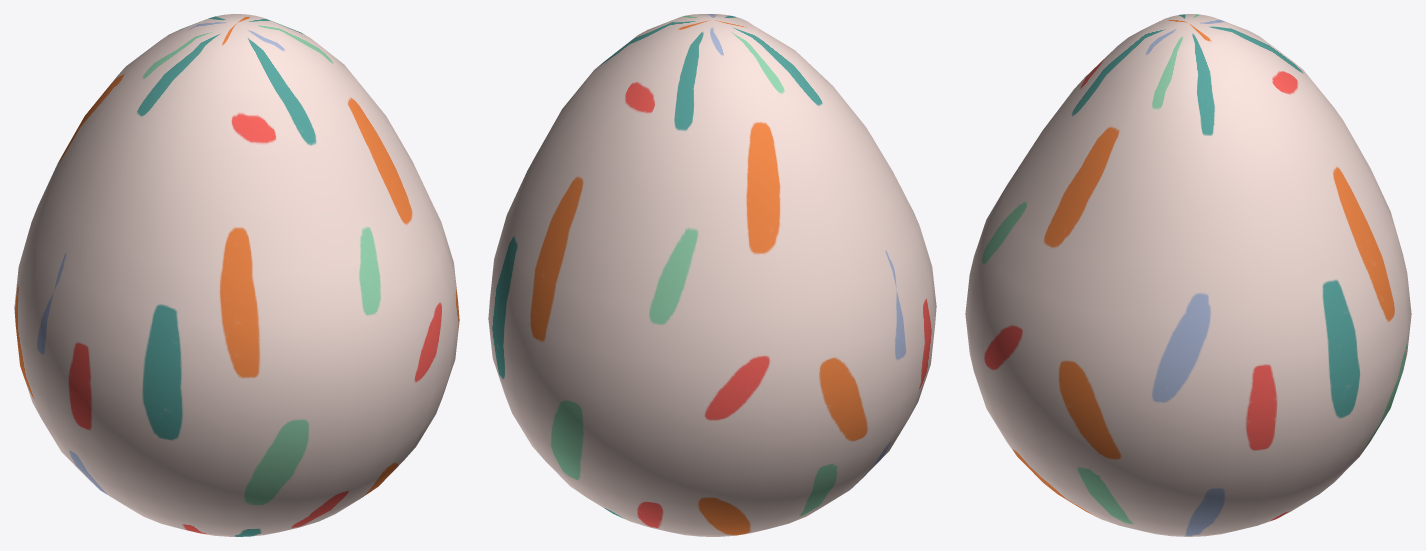
Rendered from line_egg.glb.
3 views of the same model, side by side, from view 1: azimuth 30°, elevation 25°; view 2: azimuth 150°, elevation 25°; view 3: azimuth 270°, elevation 25° (orthographic).
Parts seen in each view (by area): view 1: Sphere; view 2: Sphere; view 3: Sphere.
Part boxes in pixels (box(x1,y1,x2,y2)): Sphere: box(14, 14, 459, 536); Sphere: box(488, 14, 936, 536); Sphere: box(965, 14, 1411, 536).
Size of the model in its own units: 2 by 2.44 by 2.
Materials: 1 (1 with a texture image).
